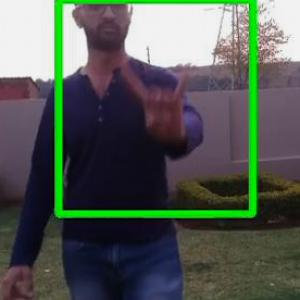takeoff-hand: (120, 47, 204, 141)
